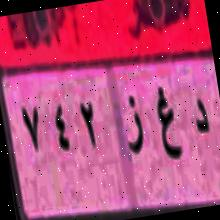2: (75, 92, 102, 156)
4: (50, 97, 76, 166)
7: (20, 97, 46, 158)
daal: (188, 86, 214, 144)
ghayn: (151, 80, 184, 164)
zay: (116, 89, 148, 166)
